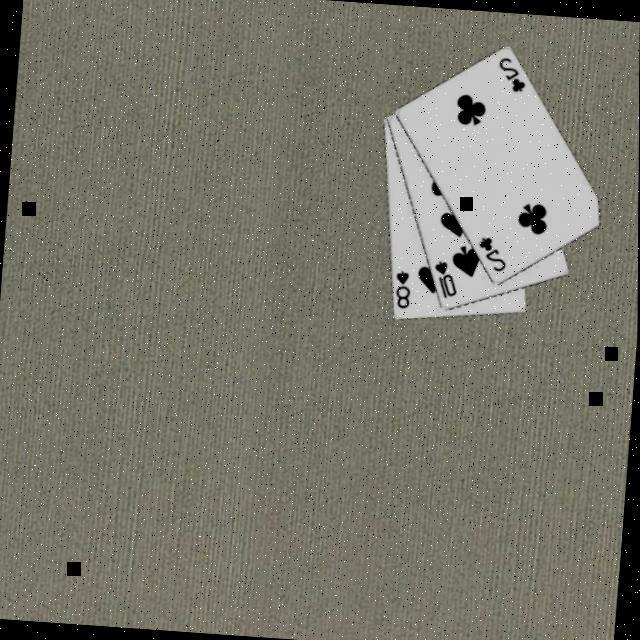10S: (430, 259, 462, 304)
2C: (474, 234, 511, 276), (494, 56, 530, 98)
8S: (391, 269, 414, 313)
